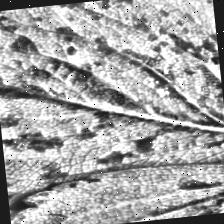Angular Leafspot: (0, 0, 224, 211), (7, 158, 224, 224)
